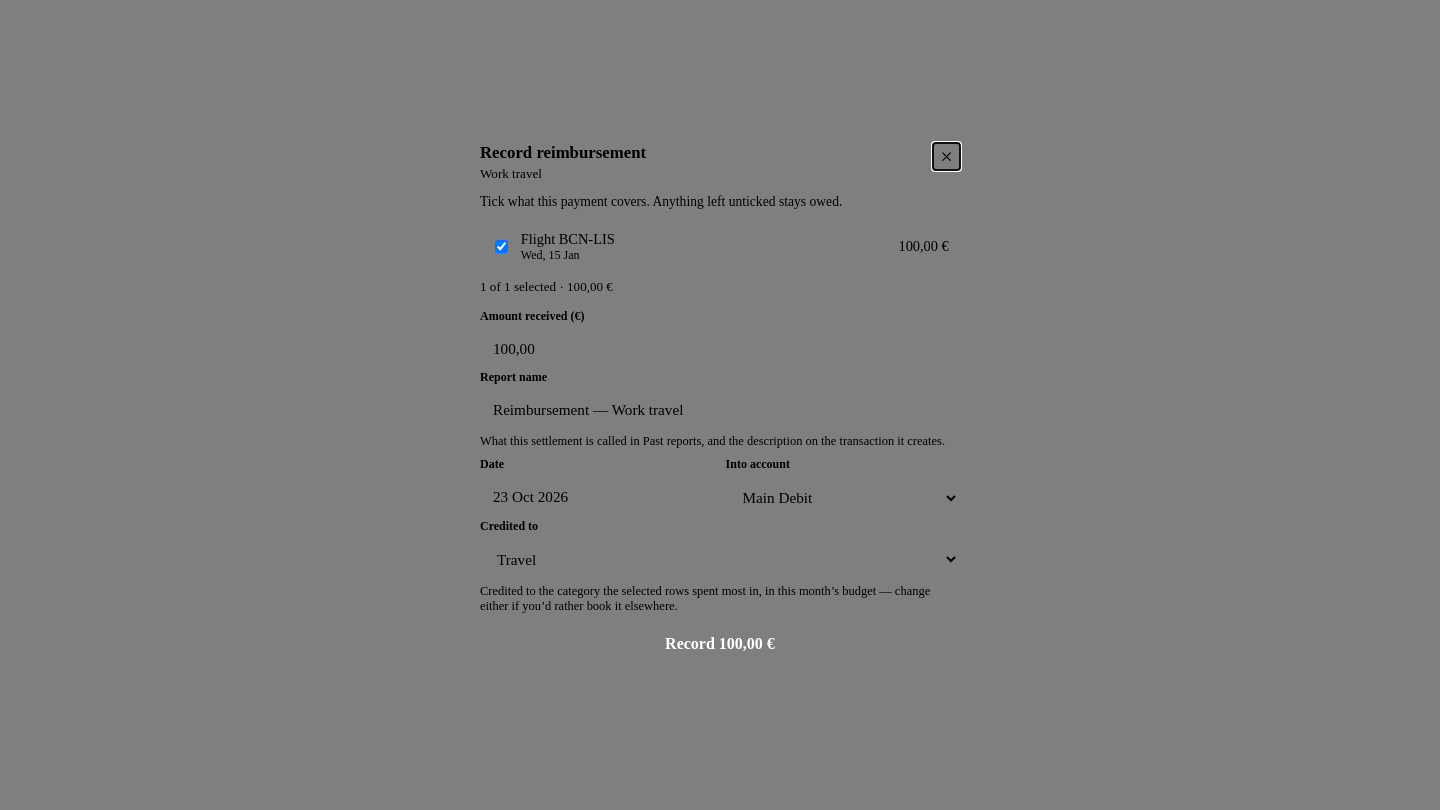
Test: RecordReimbursementSheet › refuses to record nothing
This screenshot has width=1440, height=810.
Click the checkbox at x=502, y=246, box [495,240,508,253]
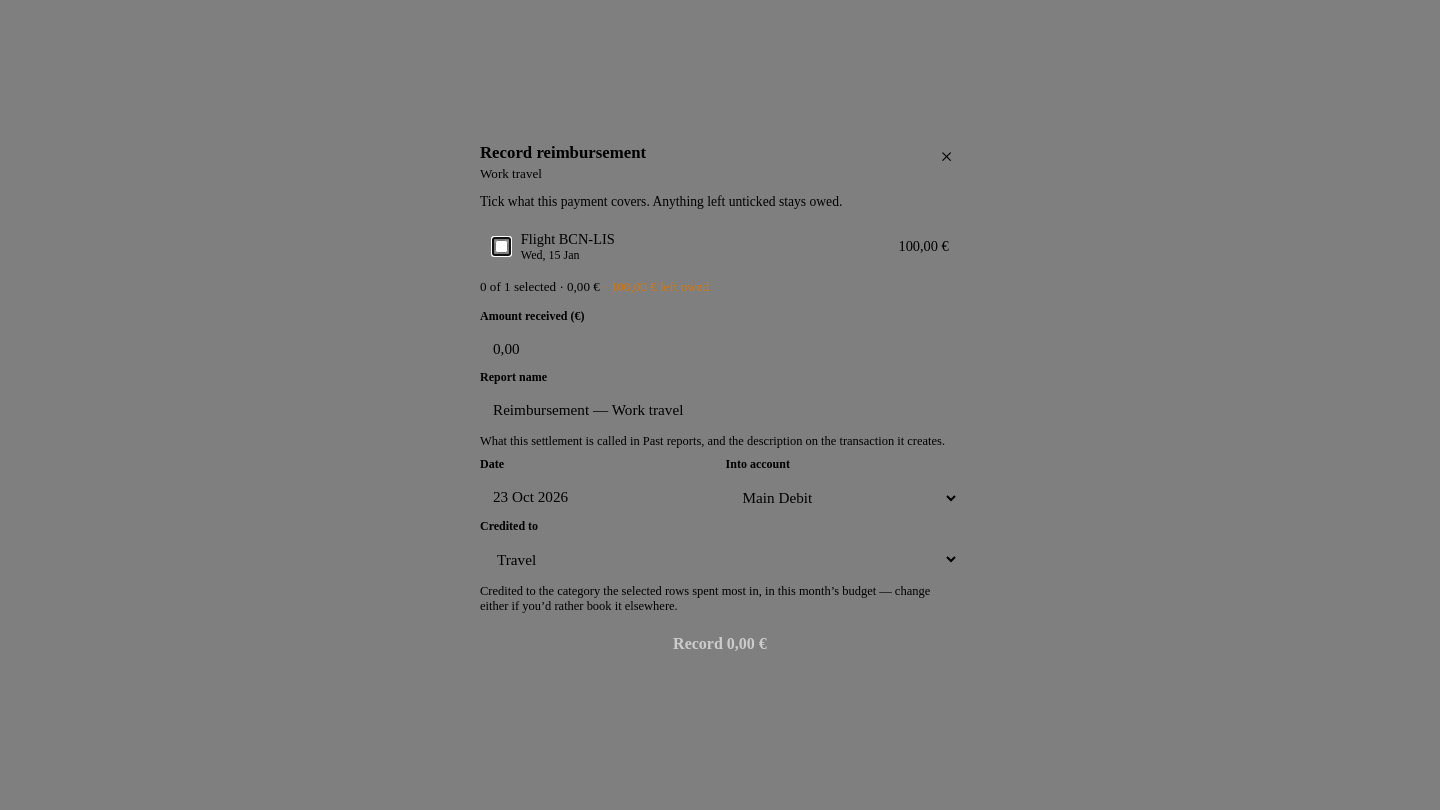
Expected: the button "Record 0,00 €" is disabled, [480,622,960,666]
